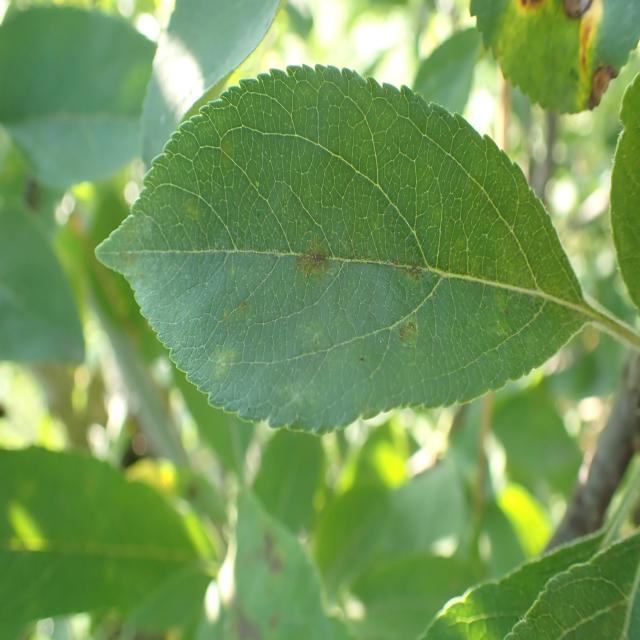scab: (191, 280, 362, 414), (185, 143, 261, 243), (105, 204, 165, 300), (382, 226, 428, 302), (289, 224, 336, 294), (372, 310, 433, 352)
